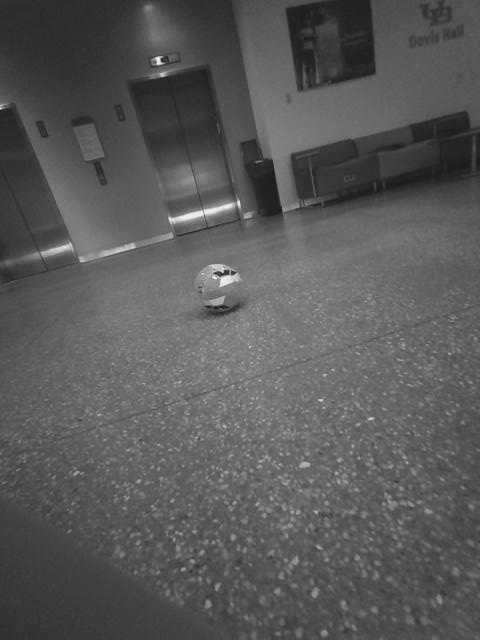ball: (187, 257, 256, 320)
